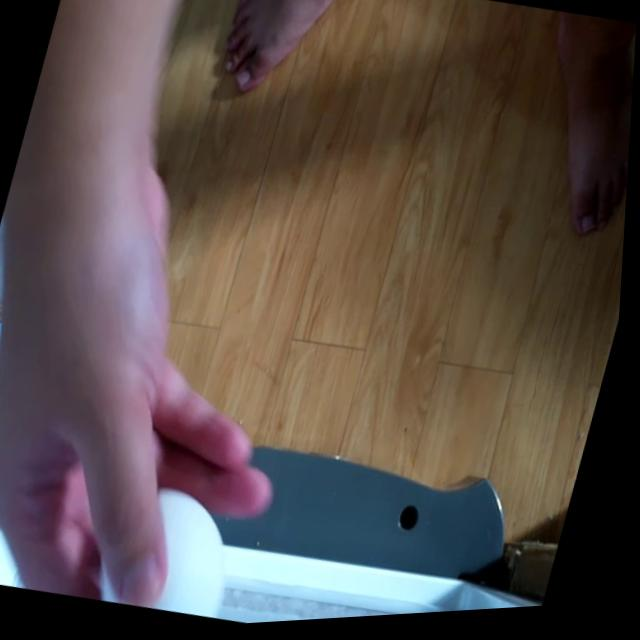egg: (102, 481, 249, 626)
